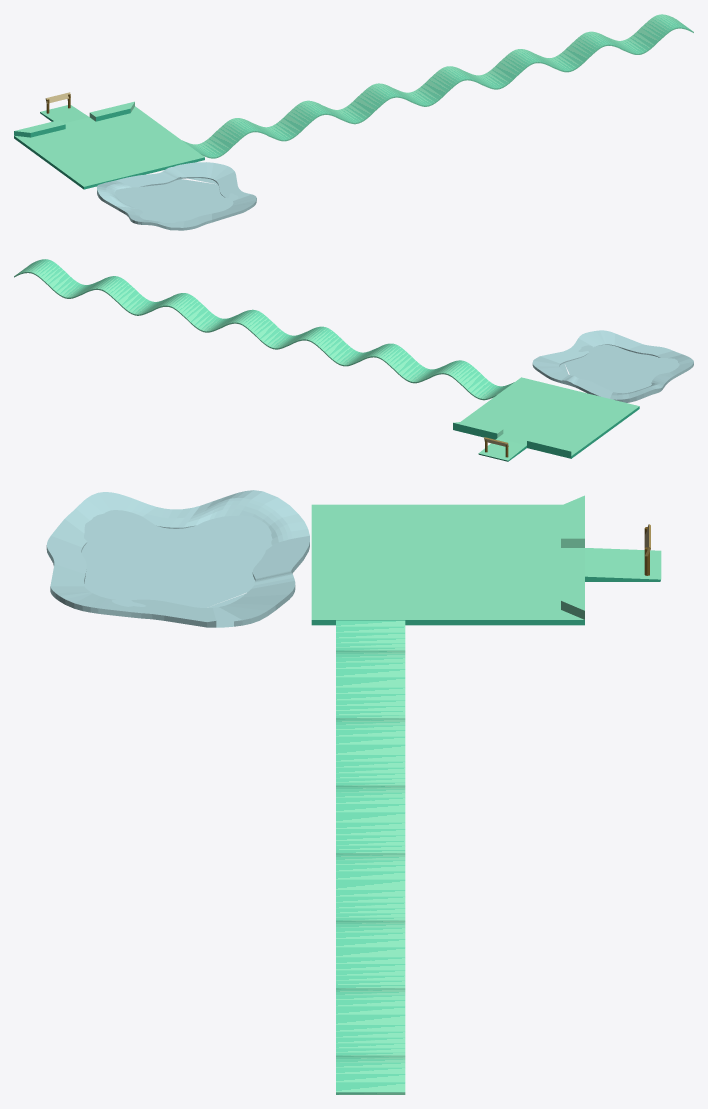
Rendered from NEWPARK.fbx.
The picture shows the model from 3 angles, top to bottom: view 1: azimuth 30°, elevation 25°; view 2: azimuth 150°, elevation 25°; view 3: azimuth 270°, elevation 25°; orthographic projection. The views are drawn at different scales.
Visible parts, largest first — view 1: Plane, BezierCurve, BezierCurve.001; view 2: BezierCurve, Plane, BezierCurve.001; view 3: Plane, BezierCurve, BezierCurve.001.
Boxes of the visible parts, box(x1,y1,x2,y2) form: Plane: box(14, 101, 204, 189); BezierCurve: box(182, 14, 693, 158); BezierCurve.001: box(97, 162, 256, 230); BezierCurve: box(14, 259, 514, 400); Plane: box(453, 377, 639, 461); BezierCurve.001: box(532, 330, 693, 402); Plane: box(311, 495, 661, 625); BezierCurve: box(336, 620, 405, 1094); BezierCurve.001: box(46, 490, 309, 627).
Bounding box in the file's own units: 2496 × 91.2 × 1098.
